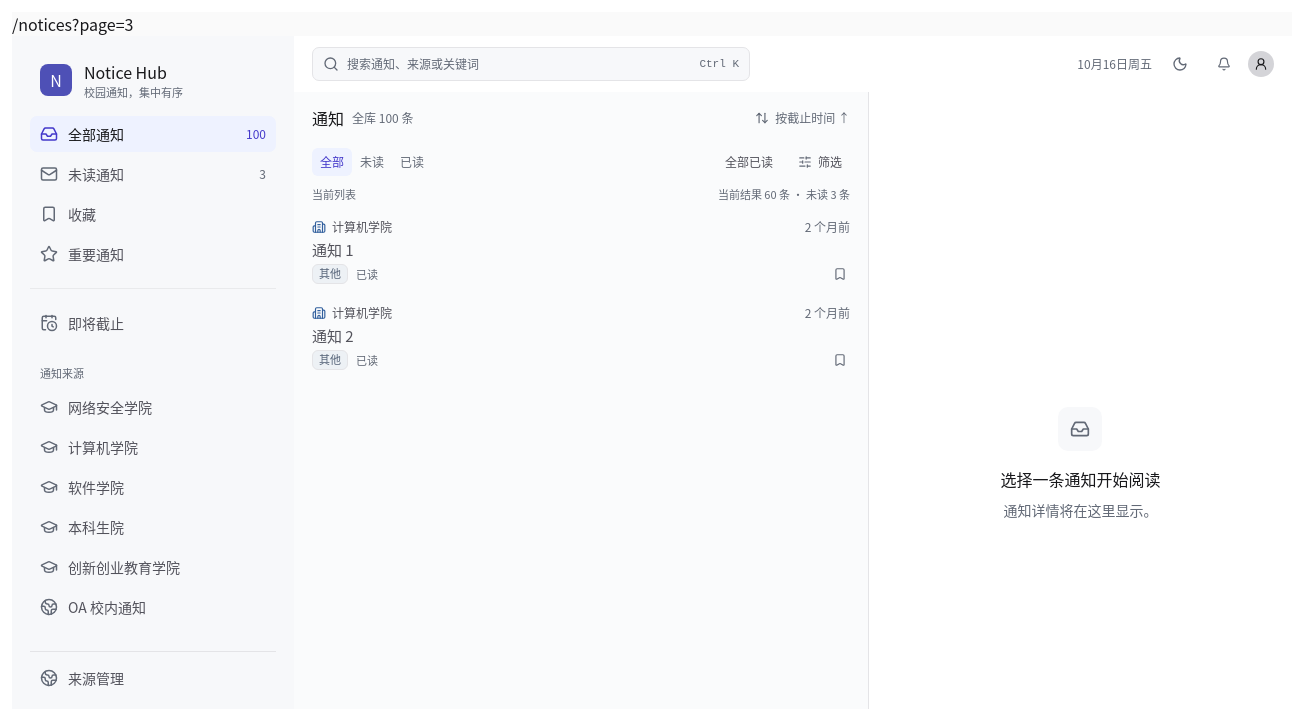
Scenario: notice workspace selection › temporarily shows a search target outside the current page/filters while preserving ?page=3
expect the link named "打开通知 1" is shown: met, box [294,208,868,294]
In the dropdown labelled "搜索通知": (519, 64) [347,55,691,73], type "通知"
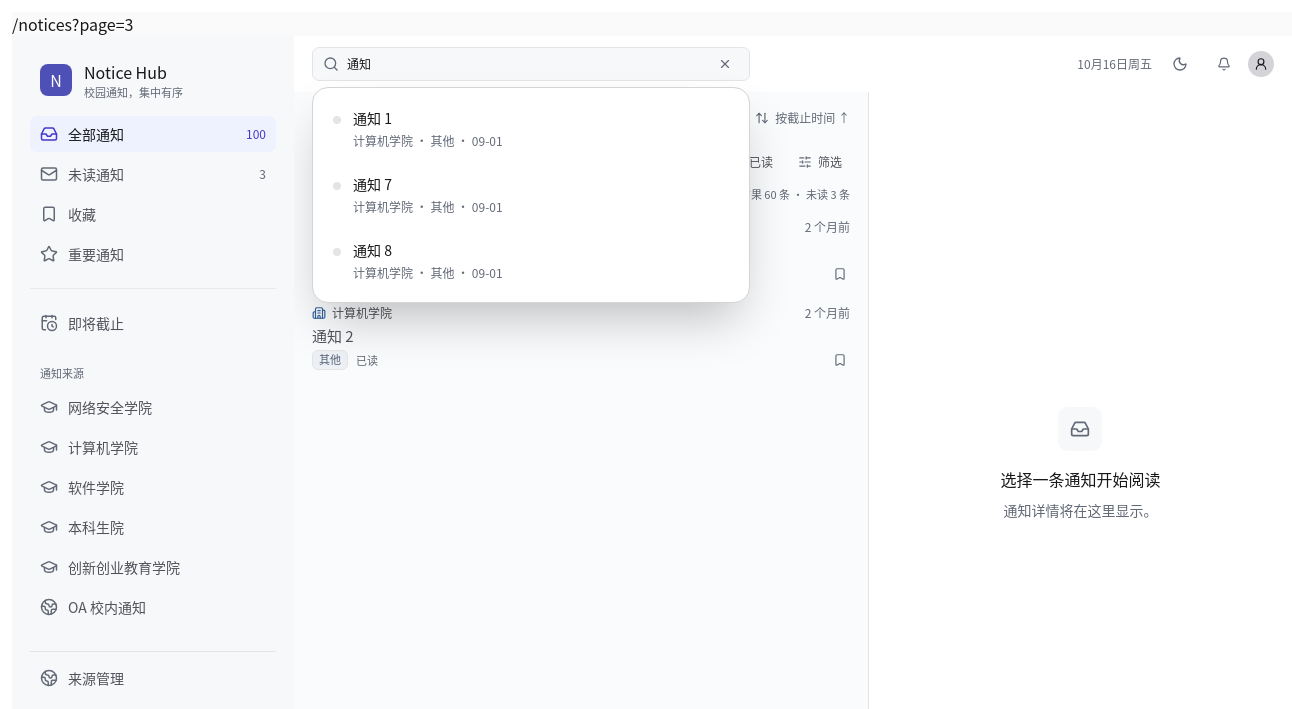
Click the option "通知 7 计算机学院 · 其他 · 09-01": (348, 185) [321,162,741,228]
(page scrolled)
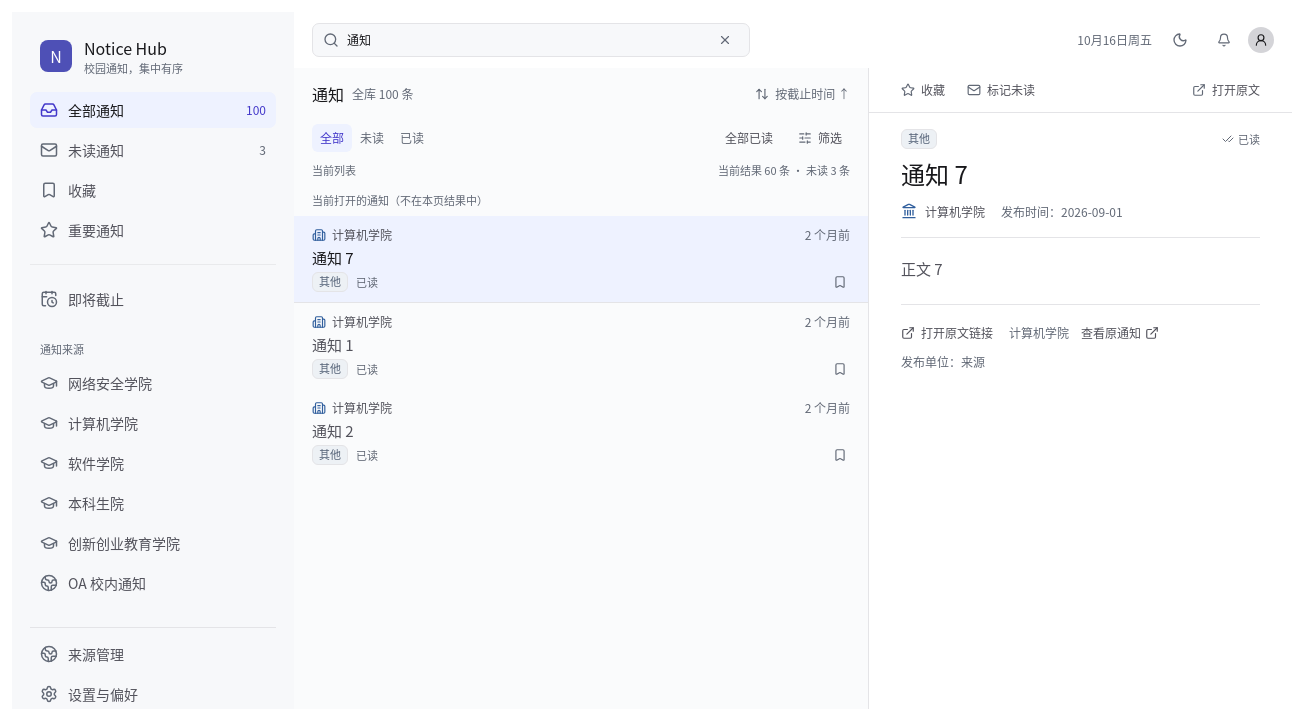
expect the text "当前结果 60 条 · 未读 3 条" is shown: met, box [718,162,850,178]
expect the heading "通知 7" is shown: met, box [901,156,968,191]
